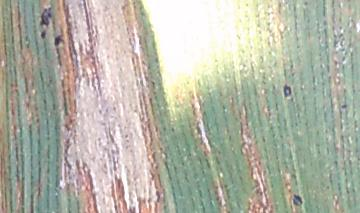tarspot: (40, 6, 52, 27), (54, 34, 65, 47), (284, 84, 293, 97), (293, 194, 302, 207), (40, 29, 47, 38), (341, 103, 348, 110)
